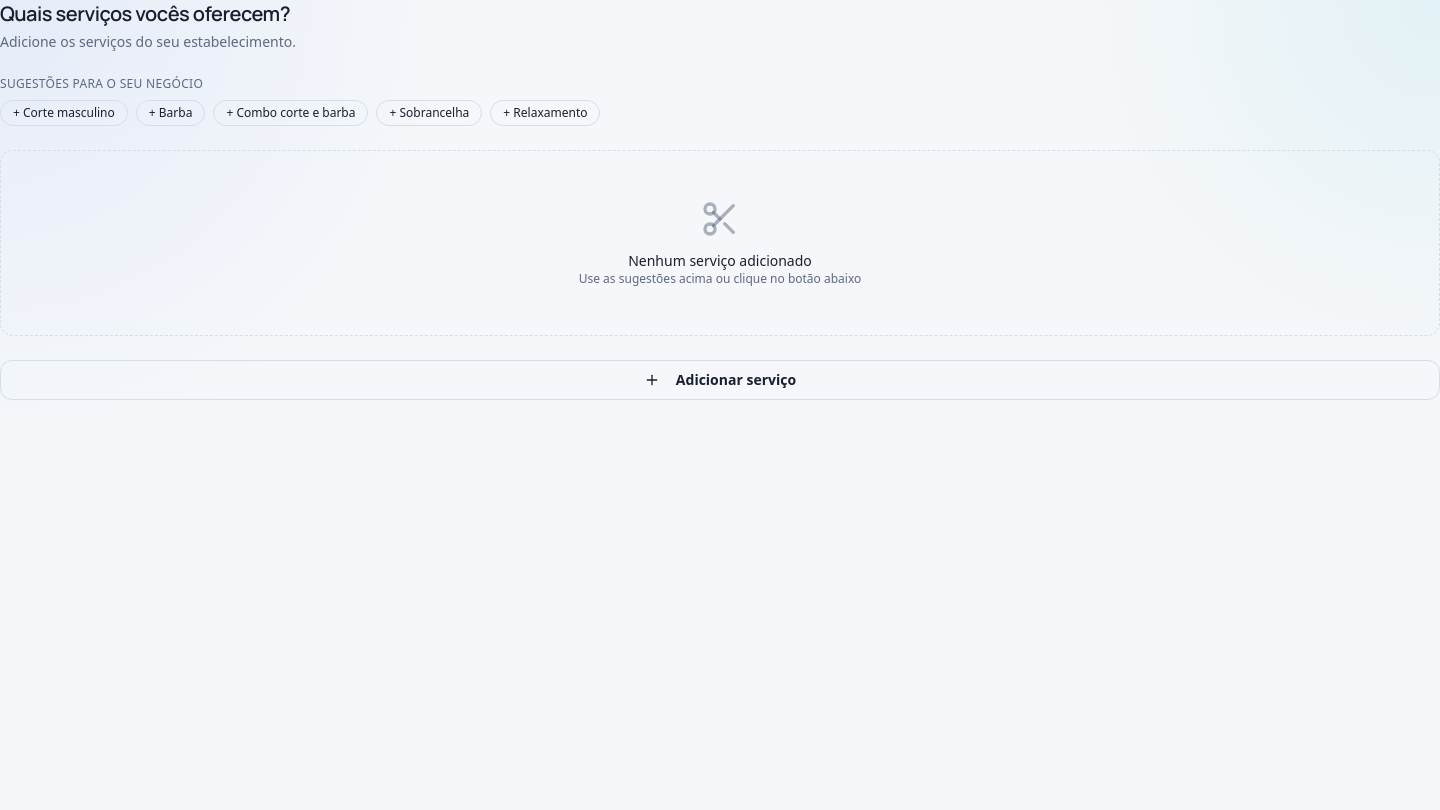
Test: StepServices › clicar numa sugestao pre-preenche o nome no formulario real
Click the button "+ Barba" at (171, 113), box [136,100,205,126]
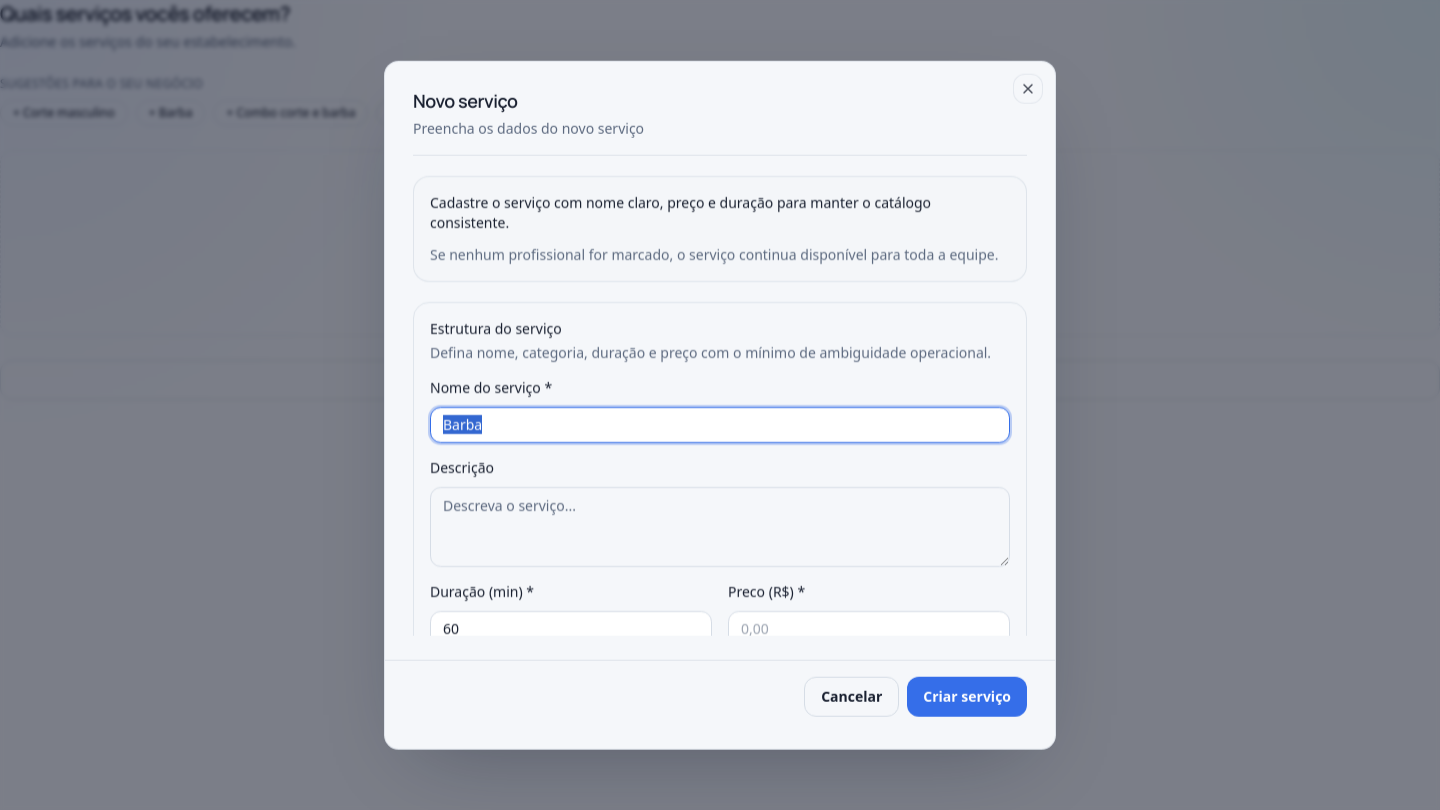
Now the field with placeholder "Ex: Corte Feminino" holds "Barba", box [430,406,1010,442]
